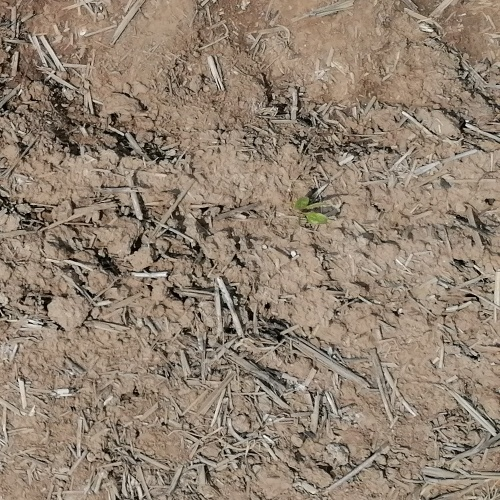beet: (294, 195, 332, 227)
